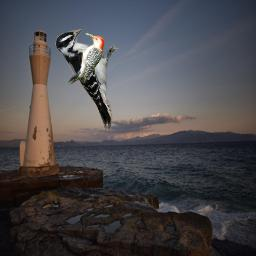Woodpecker: (55, 29, 119, 130), (66, 31, 104, 87)
